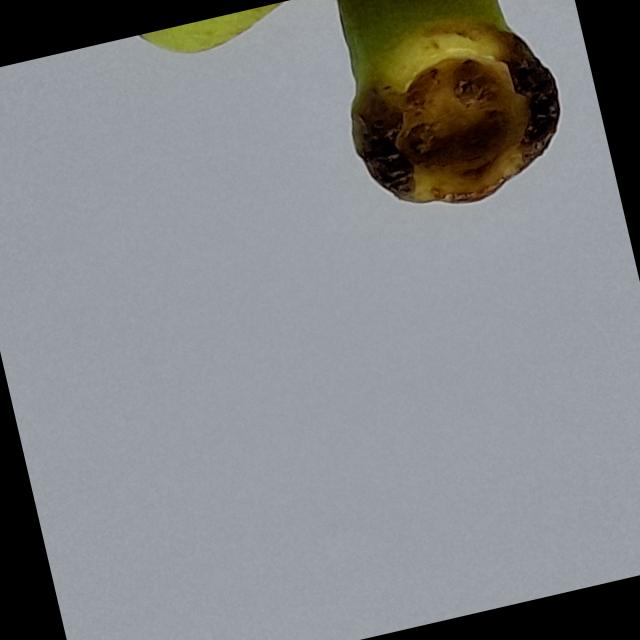mangosteen: (0, 0, 626, 367)
